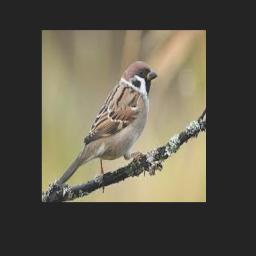Sparrow: (58, 61, 158, 190)
